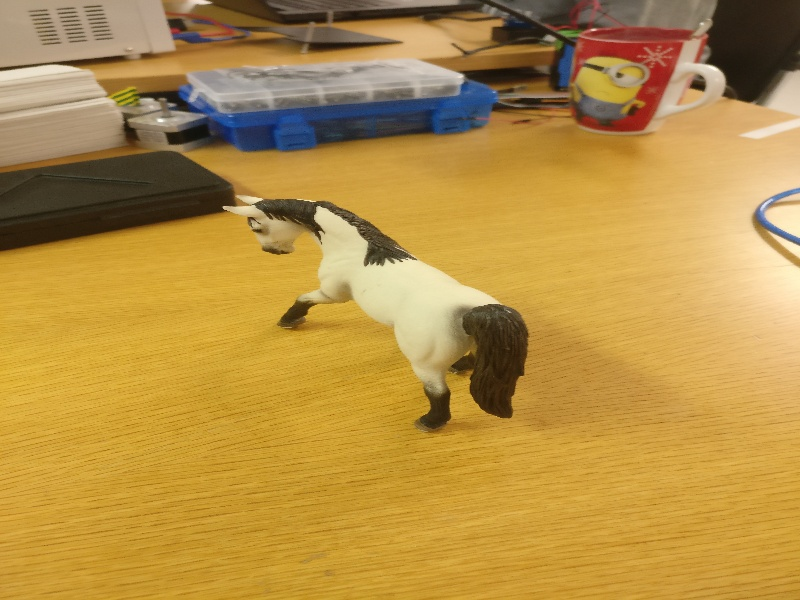toy: (218, 189, 533, 435)
